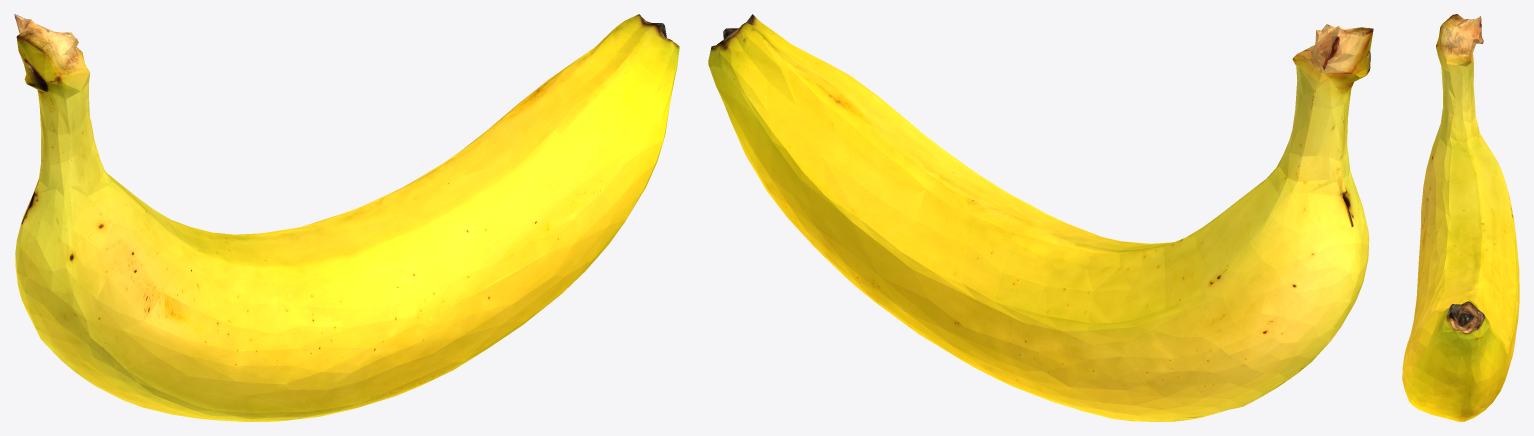
File: simpleBanana-v1.glb
The picture shows the model from 3 angles, left to right: view 1: azimuth 30°, elevation 25°; view 2: azimuth 150°, elevation 25°; view 3: azimuth 270°, elevation 25°; orthographic projection. The views are drawn at different scales.
Visible parts, largest first — view 1: banana; view 2: banana; view 3: banana.
Part boxes in pixels (<box>): banana: <box>14,14,679,421</box>; banana: <box>708,14,1373,421</box>; banana: <box>1402,14,1519,421</box>.
Size of the model in its own units: 6.79 by 4.43 by 1.61.
Materials: 1 (1 with a texture image).
